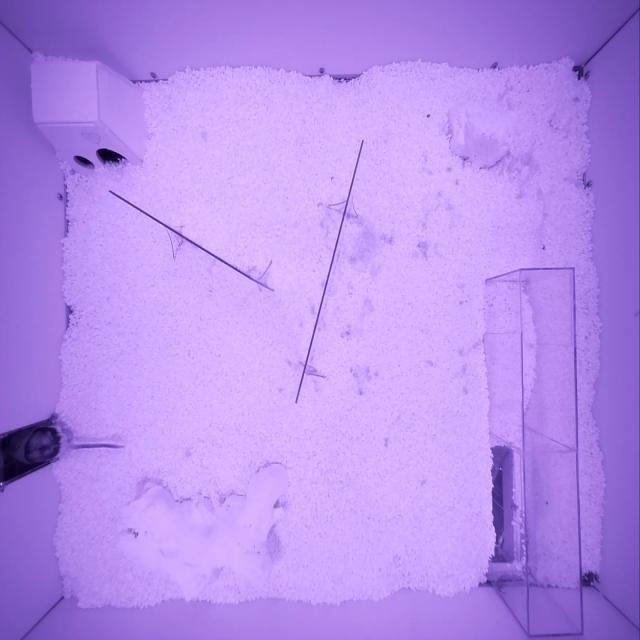adult_back: (0, 427, 71, 464)
